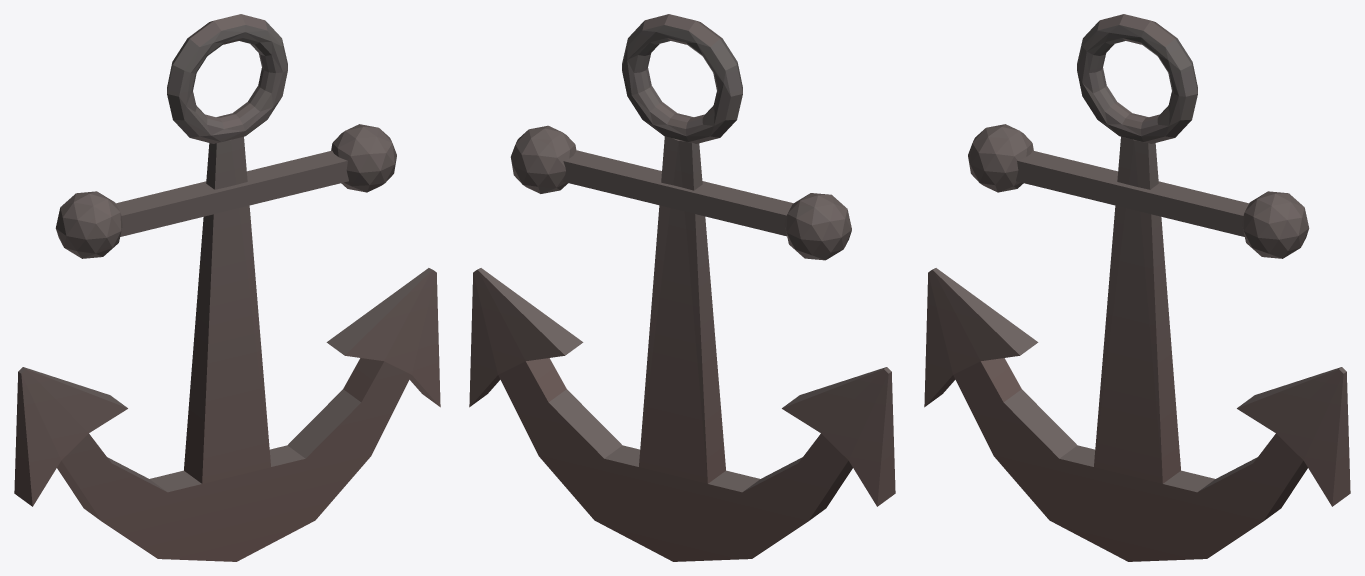
File: ankkuri.glb
3 views of the same model, side by side, from view 1: azimuth 30°, elevation 25°; view 2: azimuth 150°, elevation 25°; view 3: azimuth 330°, elevation 25° (orthographic).
Parts seen in each view (by area): view 1: Anchor; view 2: Anchor; view 3: Anchor.
Boxes of the visible parts, x1,y1,x2,y2 form: Anchor: (14,14,440,561); Anchor: (469,14,895,561); Anchor: (924,14,1350,561).
Size of the model in its own units: 3.46 by 4.29 by 0.5007.
1 material, 1 textured.
